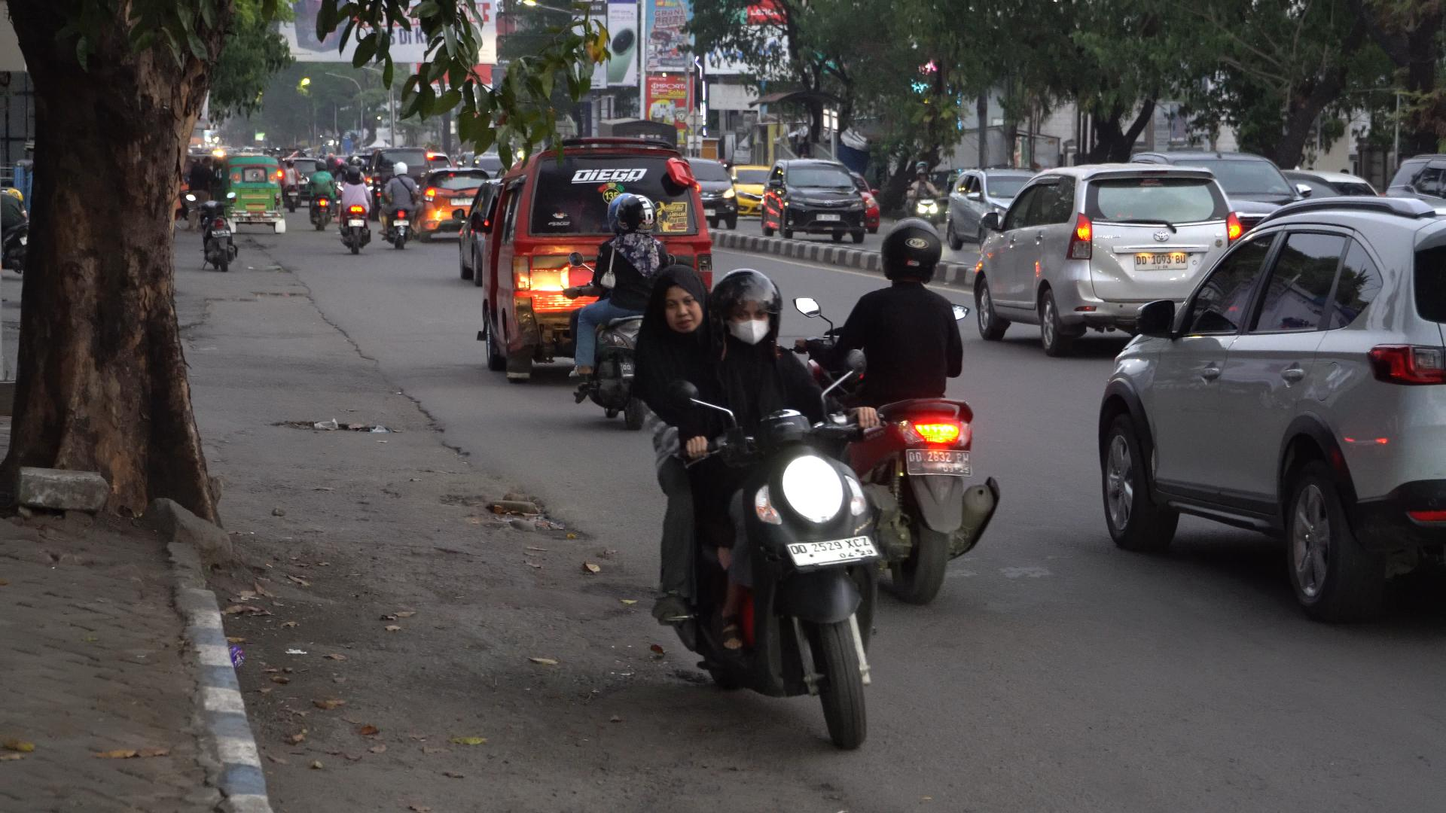number-plate: (787, 540, 882, 568)
